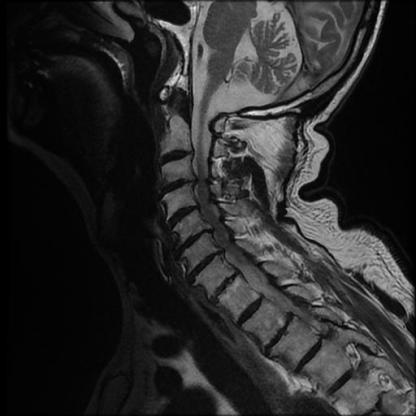Disc Bulgerotation: (180, 251, 230, 282), (168, 229, 216, 251), (164, 207, 202, 225), (157, 149, 194, 165), (161, 177, 198, 193)
Disc Protrusionrotation: (157, 149, 194, 166)
